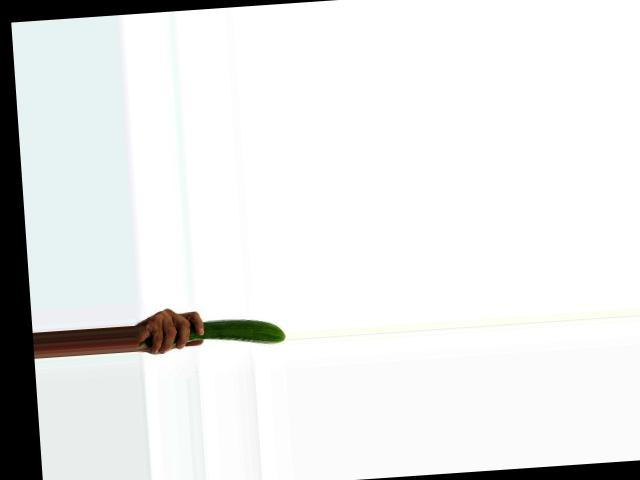cucumber: (139, 315, 286, 352)
